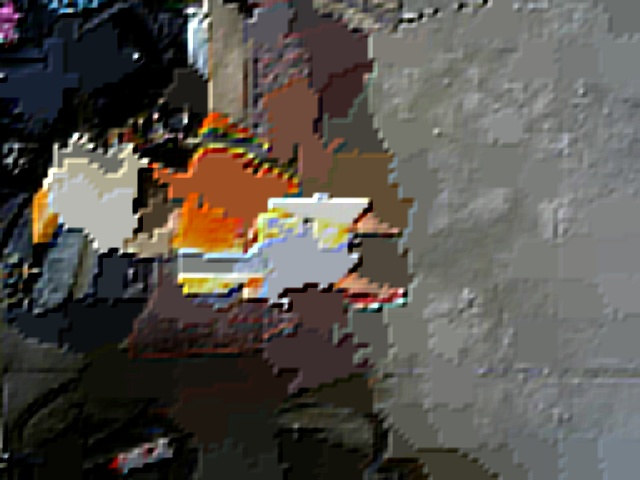one: (59, 174, 99, 216)
